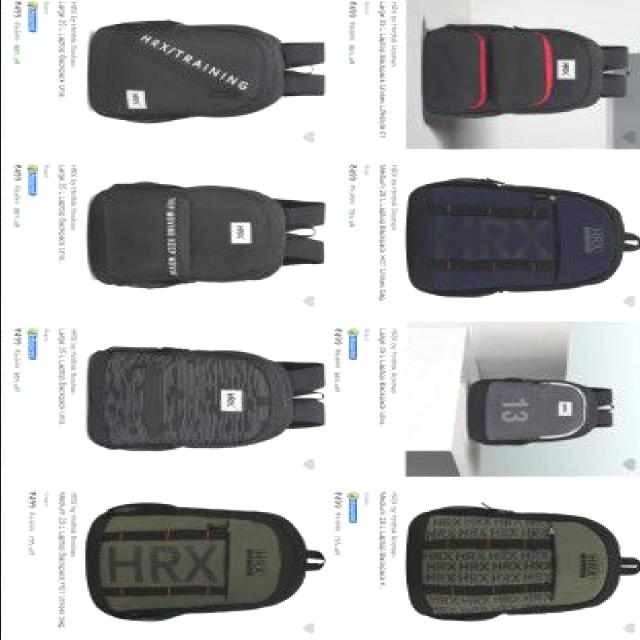backpack: (86, 503, 329, 622), (407, 177, 640, 299), (407, 505, 640, 622), (88, 182, 329, 289), (88, 347, 329, 453), (90, 20, 328, 124), (423, 24, 631, 120), (468, 377, 616, 446)
